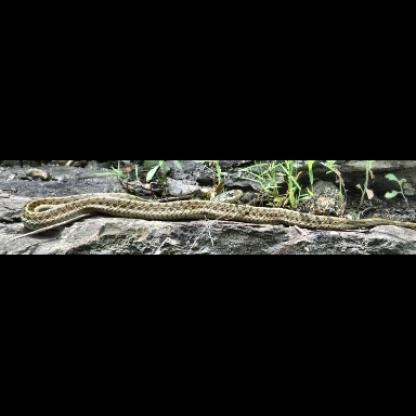Snake: (11, 191, 398, 234)
